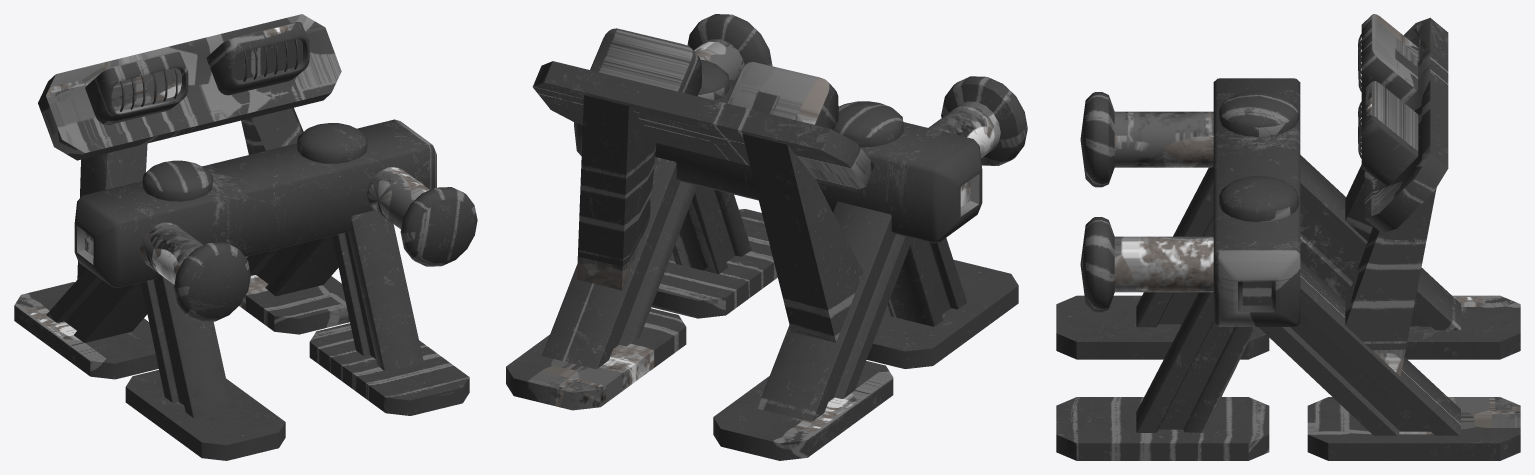
The model's file is SM_Bumper_01_LOD_01.FBX.
3 views of the same model, side by side, from view 1: azimuth 30°, elevation 25°; view 2: azimuth 150°, elevation 25°; view 3: azimuth 270°, elevation 25° (orthographic). The views are drawn at different scales.
Parts seen in each view (by area): view 1: SM_Bumper_01_LOD_01; view 2: SM_Bumper_01_LOD_01; view 3: SM_Bumper_01_LOD_01.
Part boxes in pixels (x1,y1,x2,y2): SM_Bumper_01_LOD_01: (14,14,477,460); SM_Bumper_01_LOD_01: (506,14,1027,460); SM_Bumper_01_LOD_01: (1056,14,1520,460).
Bounding box in the file's own units: 3.57 × 2.85 × 3.73.
